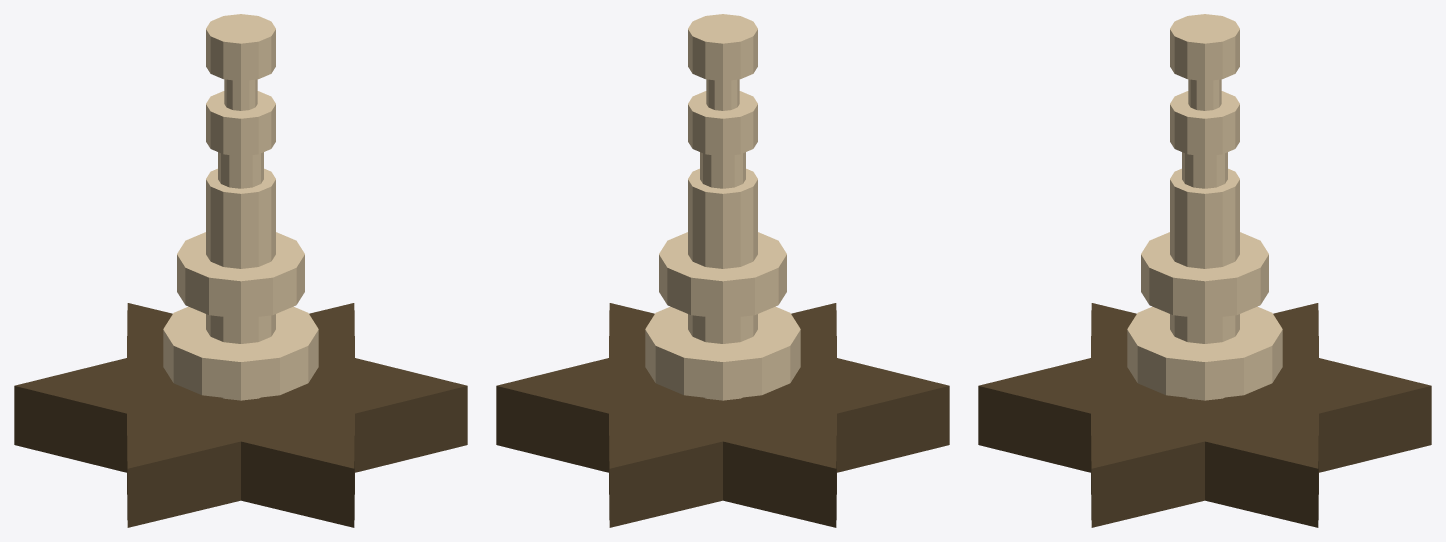
The model's file is Attachable_MagenDavid.fbx.
The picture shows the model from 3 angles, left to right: view 1: azimuth 30°, elevation 25°; view 2: azimuth 150°, elevation 25°; view 3: azimuth 270°, elevation 25°; orthographic projection.
Parts seen in each view (by area): view 1: Attachable_MagenDavid; view 2: Attachable_MagenDavid; view 3: Attachable_MagenDavid.
Part boxes in pixels (x1,y1,x2,y2): Attachable_MagenDavid: (14,14,467,527); Attachable_MagenDavid: (496,14,949,527); Attachable_MagenDavid: (978,14,1431,527).
Bounding box in the file's own units: 60.3 × 70.49 × 69.63.
